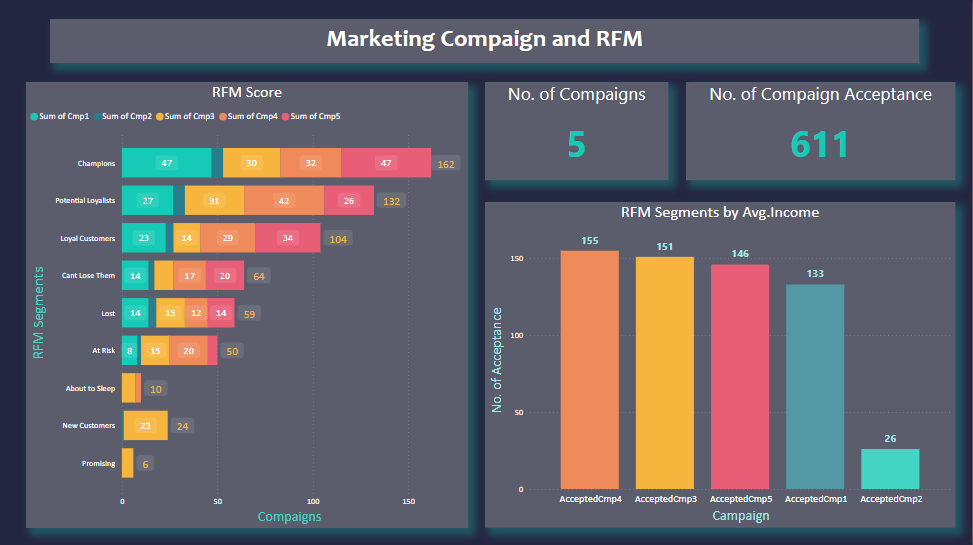

The dashboard page shown, as its layout file describes it:
{"tool":"powerbi","page":{"name":"Marketing","canvas":[1280,720],"ordinal":1},"visuals":[{"type":"textbox","box":[68.8,26.2,1142.4,57.8],"z":0},{"type":"card","title":"No. of Compaigns","fields":{"Values":["CountNonNull(acceptance_counts_df.Campaign)"]},"box":[640,108.7,240.9,129.4],"z":1000},{"type":"card","title":"No. of Compaign Acceptance","fields":{"Values":["Sum(acceptance_counts_df.Acceptance Count)"]},"box":[904.3,108.7,353.7,129.4],"z":2000},{"type":"columnChart","title":"RFM Segments by Avg.Income ","fields":{"Category":["acceptance_counts_df.Campaign"],"Y":["Sum(acceptance_counts_df.Acceptance Count)"]},"box":[640,267,618,428],"z":3000},{"type":"barChart","title":"RFM Score","fields":{"Y":["Sum(rfm_campaign_acceptance.AcceptedCmp1)","Sum(rfm_campaign_acceptance.AcceptedCmp2)","Sum(rfm_campaign_acceptance.AcceptedCmp3)","Sum(rfm_campaign_acceptance.AcceptedCmp4)","Sum(rfm_campaign_acceptance.AcceptedCmp5)"],"Category":["rfm_campaign_acceptance.Segment"]},"box":[37.2,108.7,580.8,586.3],"z":4000}]}

Visuals, with their boxes in screenshot pixels (x1, y1, x2, y2), scaled from the page's 1280x720 canvas onto the 973x545 screenshot:
textbox: crop(52, 20, 921, 64)
"No. of Compaigns" card: crop(486, 82, 670, 180)
"No. of Compaign Acceptance" card: crop(687, 82, 956, 180)
"RFM Segments by Avg.Income " columnChart: crop(486, 202, 956, 526)
"RFM Score" barChart: crop(28, 82, 470, 526)
